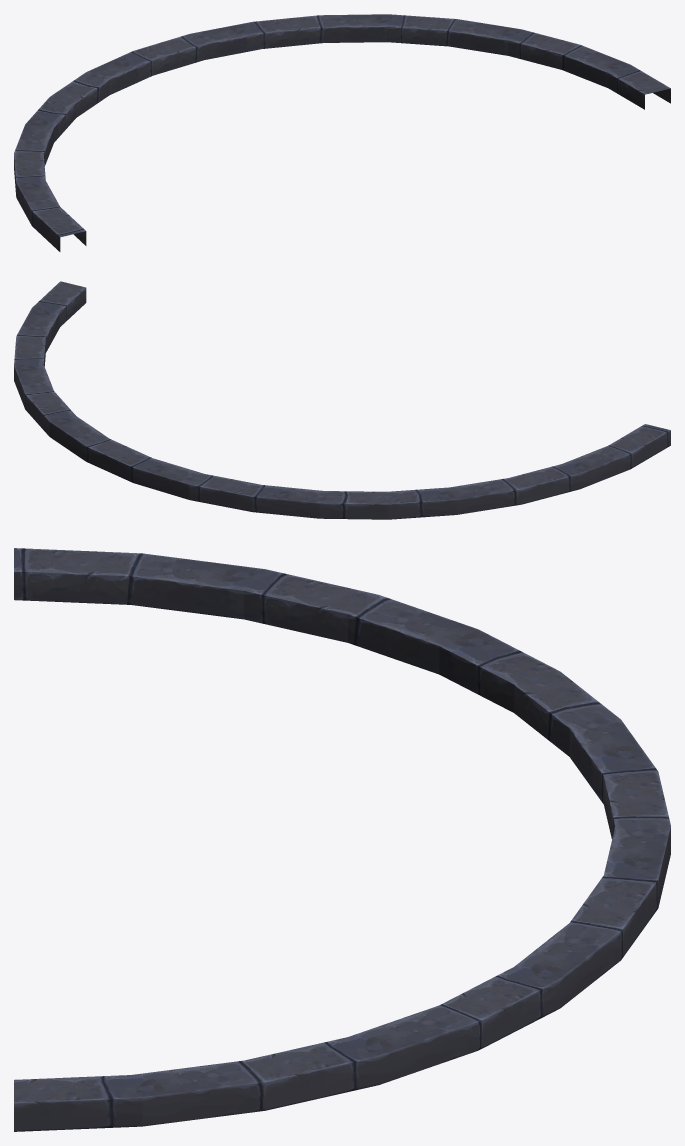
The model's file is sn_chengbao_fbbrick_008.FBX.
3 views of the same model, one above another, from view 1: azimuth 30°, elevation 25°; view 2: azimuth 150°, elevation 25°; view 3: azimuth 270°, elevation 25° (orthographic). The views are drawn at different scales.
Parts seen in each view (by area): view 1: sn_chengbao_fbbrick_008; view 2: sn_chengbao_fbbrick_008; view 3: sn_chengbao_fbbrick_008.
Part boxes in pixels (x1=…): sn_chengbao_fbbrick_008: x1=14, y1=14, x2=670, y2=251; sn_chengbao_fbbrick_008: x1=14, y1=281, x2=670, y2=519; sn_chengbao_fbbrick_008: x1=14, y1=548, x2=670, y2=1131.
Size of the model in its own units: 1691 by 845 by 40.58.
